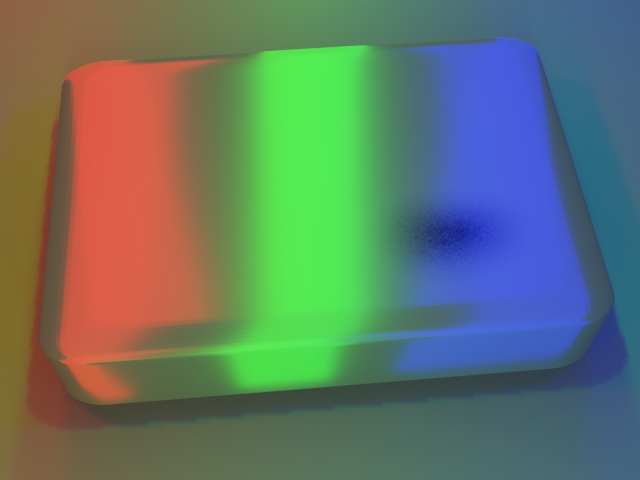stain: (370, 168, 591, 299)
